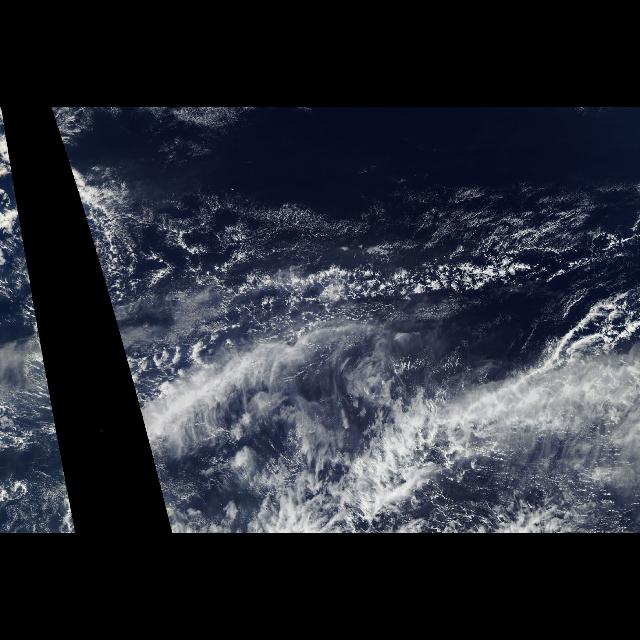Sugar: (79, 110, 636, 308)
